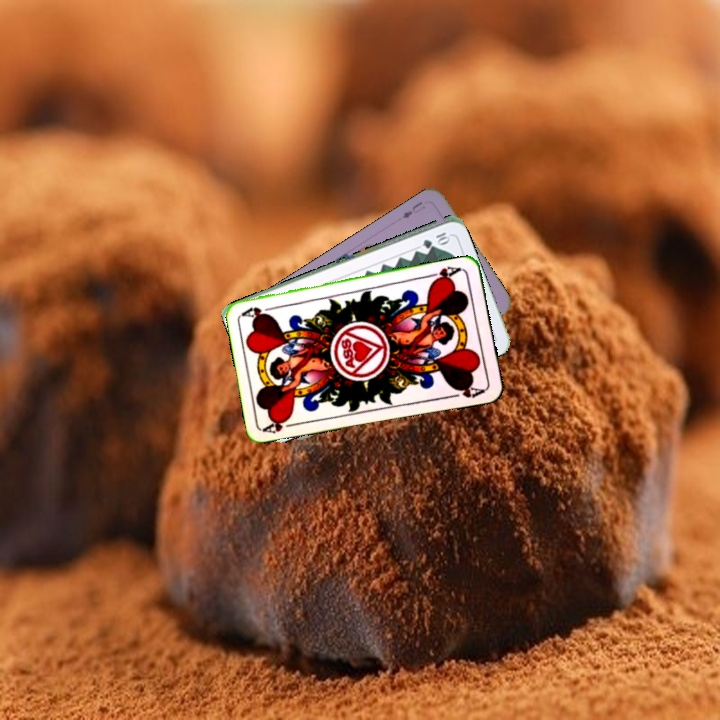EU: (398, 197, 427, 221)
G10: (419, 228, 452, 250)
HA: (425, 262, 465, 285), (261, 413, 301, 436)
